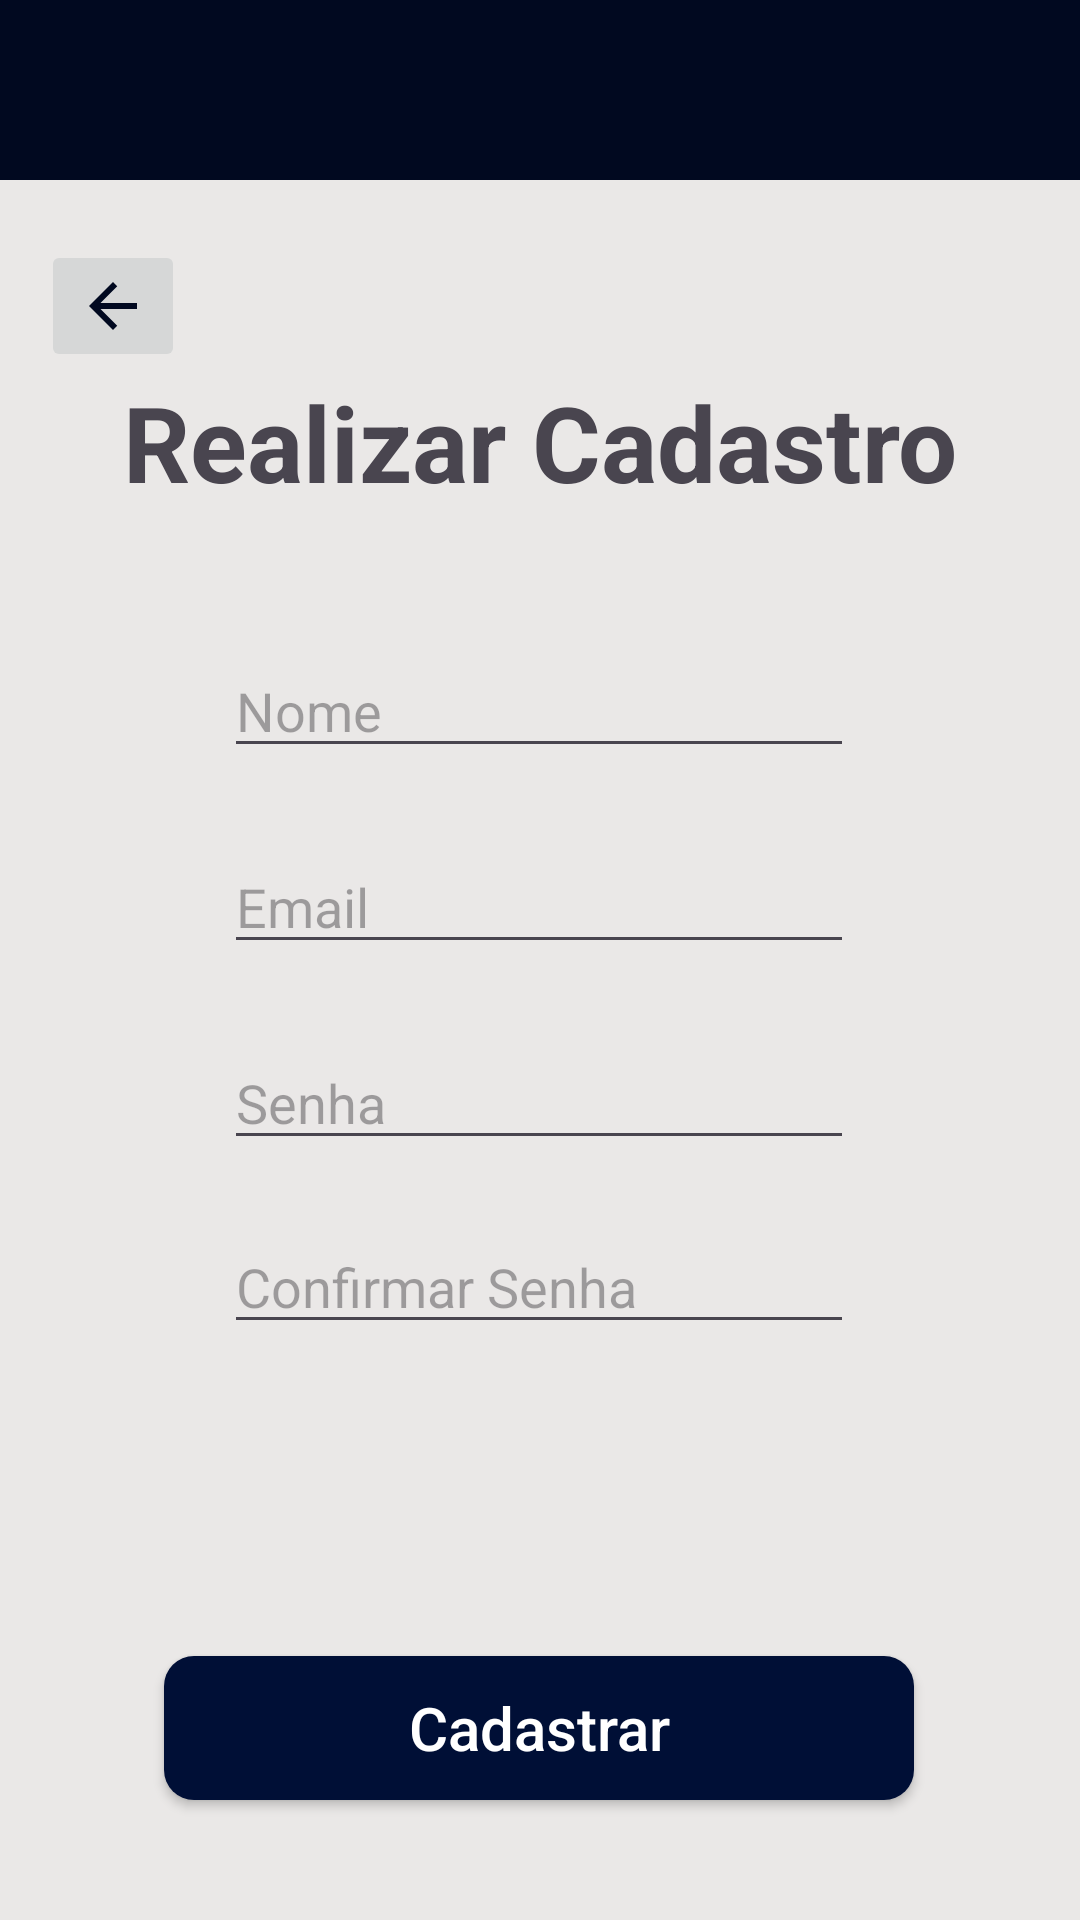

Named icons in this screenshot (1080×1920) and their bounding boxes, (x1, y1, x2, y2):
arrow back: (53, 258, 173, 354)
